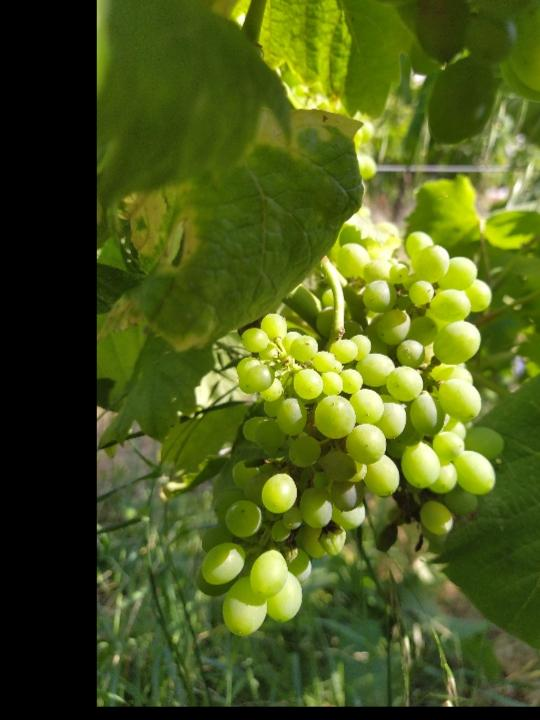grape: (192, 227, 508, 640)
